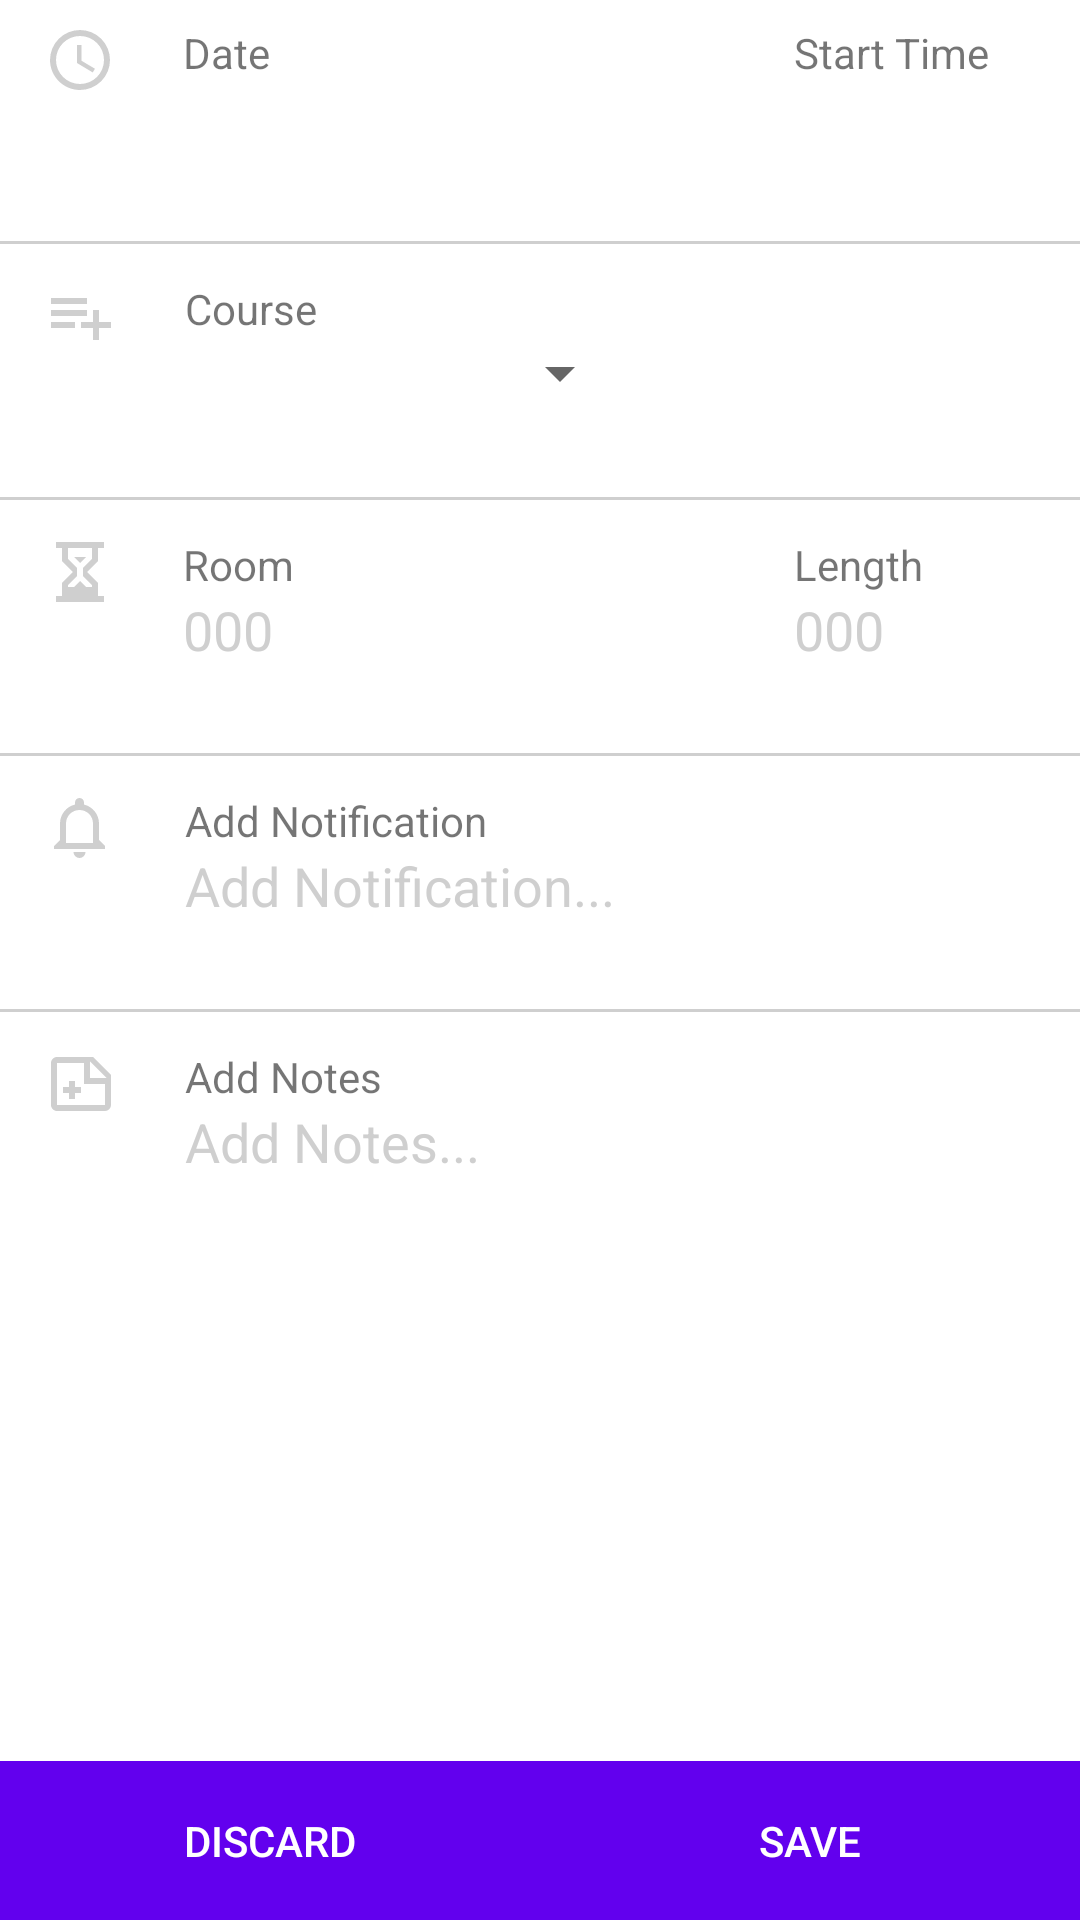

Locate icon controls on the screen. Image size 1080 x 1920, boxes as region(x1, y1, x2, y2).
add playlist: region(51, 298, 111, 340)
bell: region(54, 798, 105, 858)
schedule: region(50, 30, 110, 90)
timer sand: region(56, 542, 104, 602)
